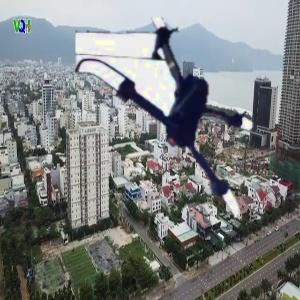drone: (76, 17, 287, 228)
